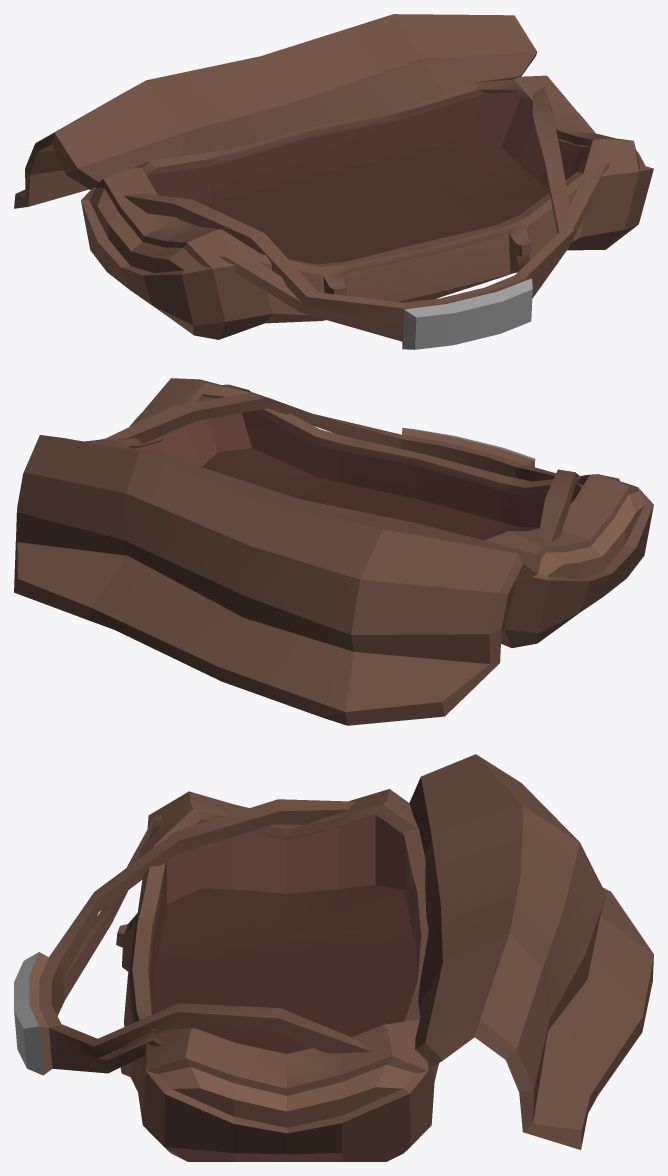
The model's file is Duffle Bag.fbx.
3 renders of one model, top to bottom at view 1: azimuth 30°, elevation 25°; view 2: azimuth 150°, elevation 25°; view 3: azimuth 270°, elevation 25°, orthographic. The views are drawn at different scales.
Visible parts, largest first — view 1: SM_Item_DuffleBag_Open_Empty_01; view 2: SM_Item_DuffleBag_Open_Empty_01; view 3: SM_Item_DuffleBag_Open_Empty_01.
Boxes of the visible parts, x1,y1,x2,y2 form: SM_Item_DuffleBag_Open_Empty_01: (14,14,653,349); SM_Item_DuffleBag_Open_Empty_01: (14,378,653,725); SM_Item_DuffleBag_Open_Empty_01: (14,754,653,1161).
Bounding box in the file's own units: 4659 × 1427 × 4384.
